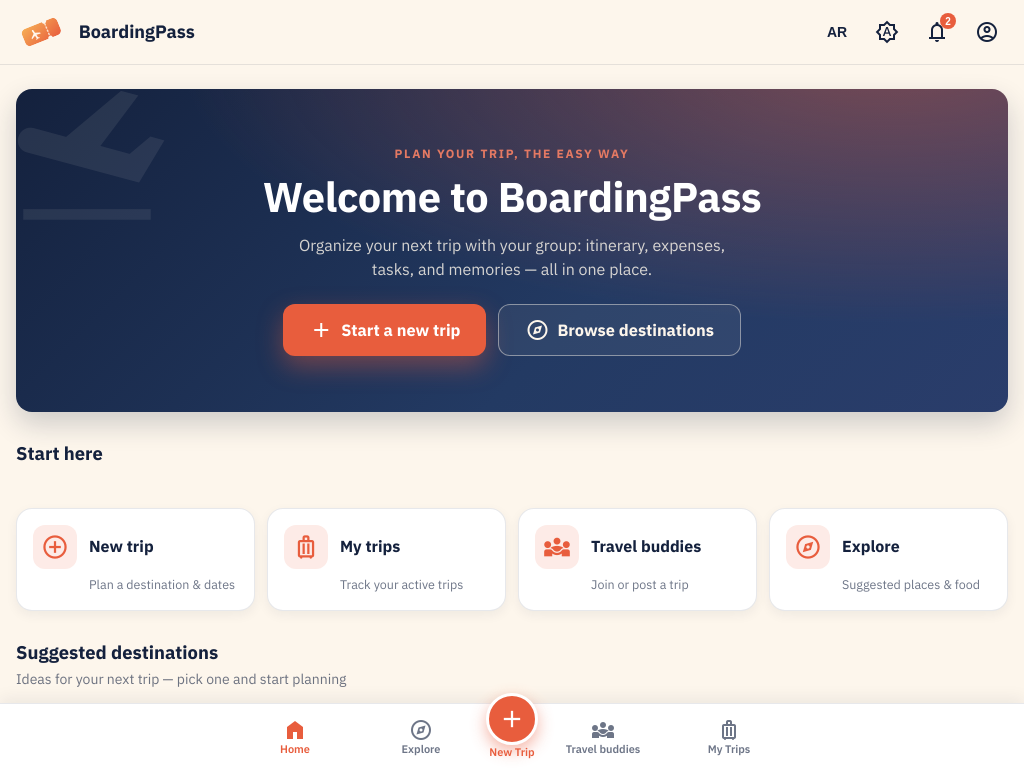
Scenario: US-015 Notification center › marks all read, clearing the badge (AC4)
Step 1. Click the button named "2 unread" → (937, 32), box [916,11,958,53]
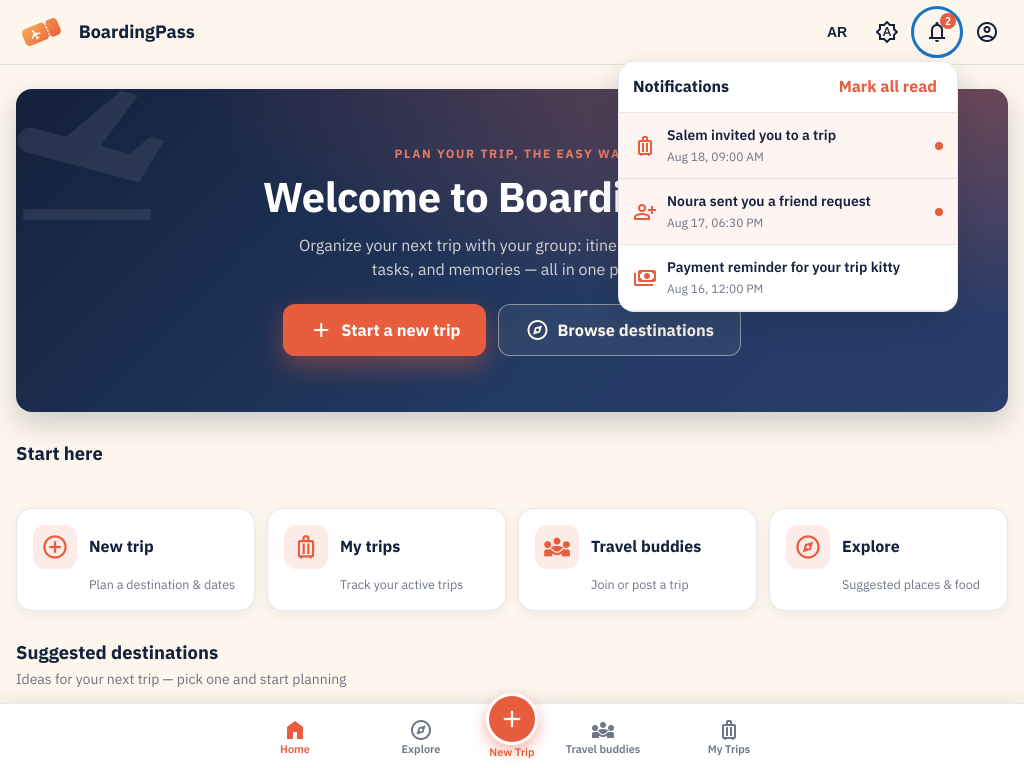
Step 2. Click the button "Mark all read" → (888, 87), box [833,74,943,100]
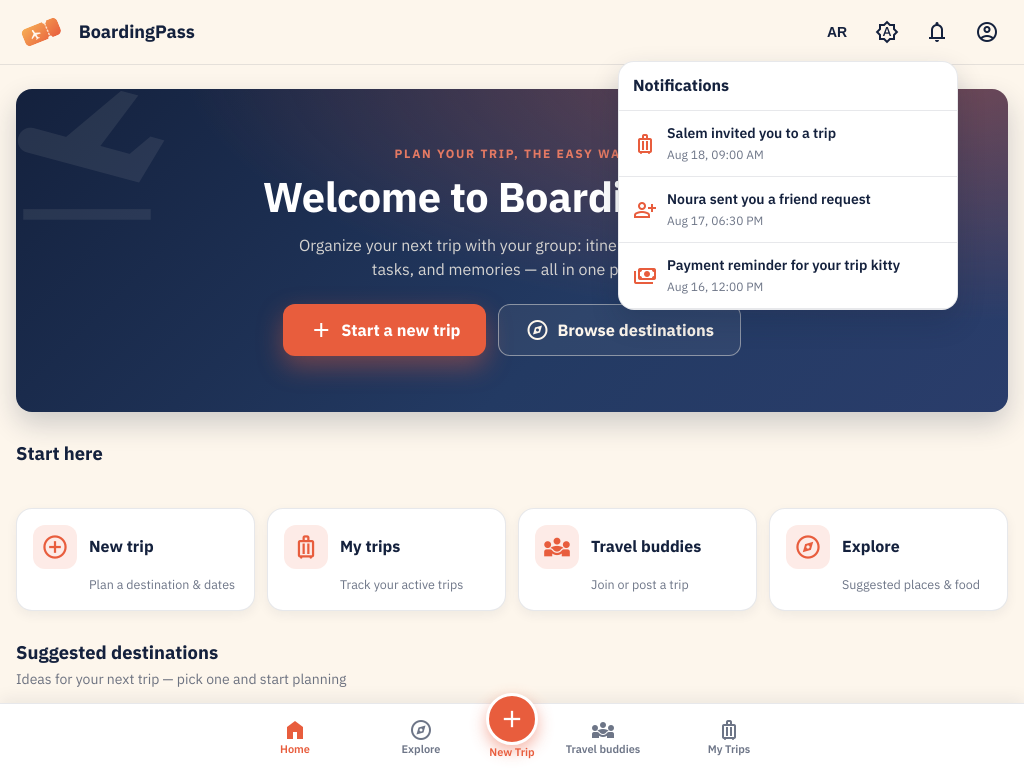
expect the button "unread" is gone: met
